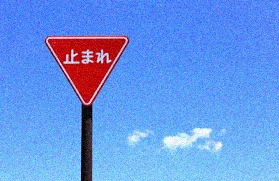Regulatory_sign_triangle: (47, 33, 145, 110)
